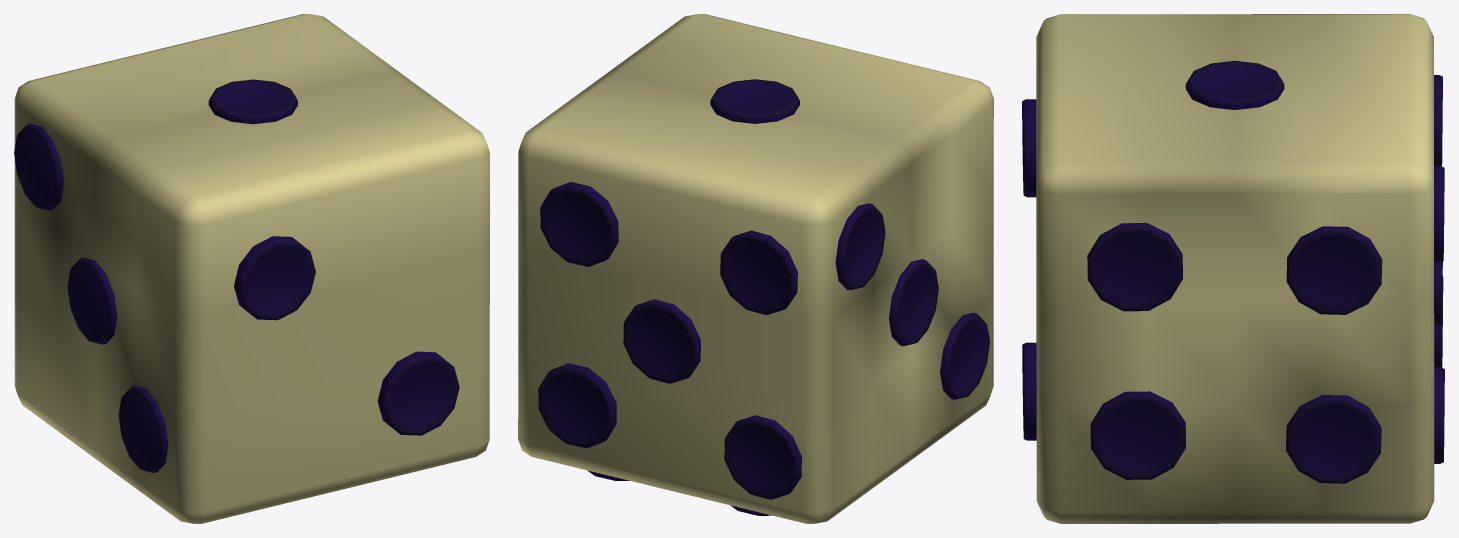
Rendered from кубик.fbx.
The picture shows the model from 3 angles, left to right: view 1: azimuth 30°, elevation 25°; view 2: azimuth 150°, elevation 25°; view 3: azimuth 270°, elevation 25°; orthographic projection. The views are drawn at different scales.
Parts seen in each view (by area): view 1: Cube.006; view 2: Cube.006; view 3: Cube.006.
Part boxes in pixels (<box>): Cube.006: <box>14,14,489,523</box>; Cube.006: <box>518,14,993,523</box>; Cube.006: <box>1022,14,1444,523</box>.
Bounding box in the file's own units: 123 × 123 × 125.
